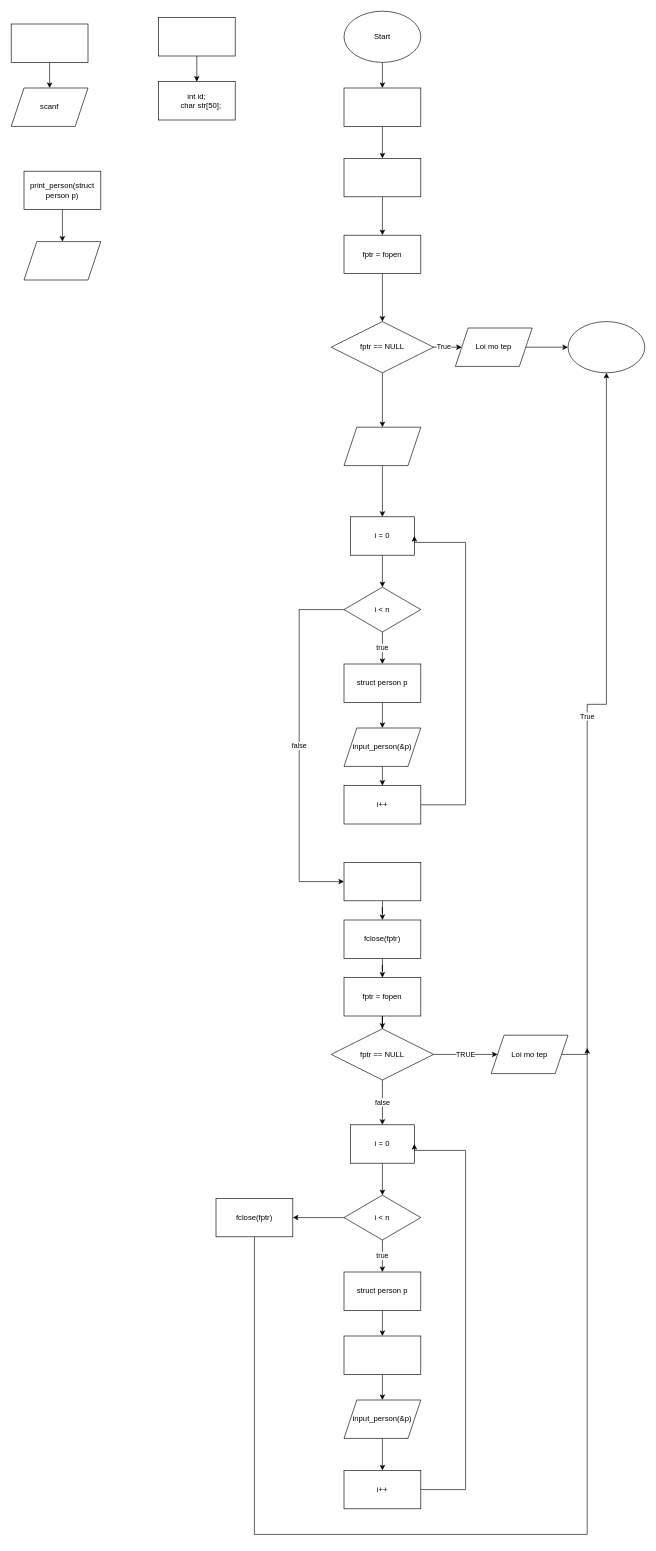
Image size: 656x1551. Some labels were removed from this diagram. The centre of each missing label's shape, as x and y in pixels:
*fptr: the point at 382,177
End: the point at 606,347
fread: the point at 382,1354
fwrite: the point at 382,881
i,n: the point at 382,106
input_person(struct person *p): the point at 49,42
Nhap so dong = n: the point at 382,446
printf p.str: the point at 62,260
struct person: the point at 196,36
